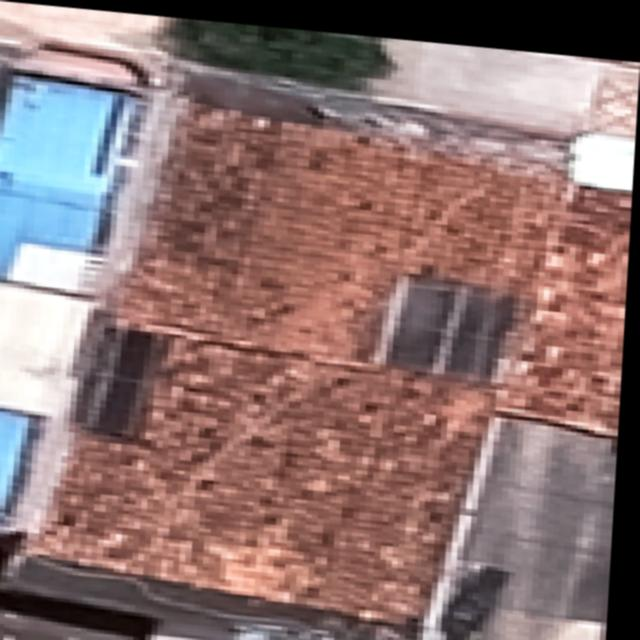Batiment: (37, 104, 626, 611), (0, 74, 142, 288), (0, 408, 39, 516)
